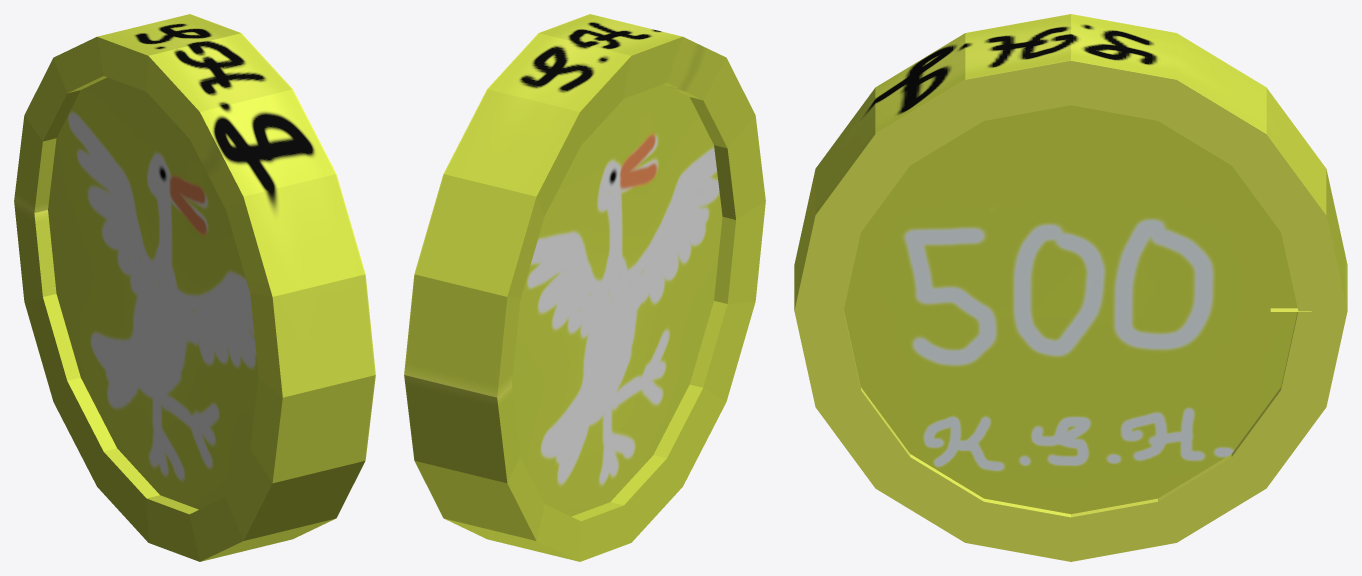
File: coin.fbx.glb
3 renders of one model, left to right at view 1: azimuth 30°, elevation 25°; view 2: azimuth 150°, elevation 25°; view 3: azimuth 270°, elevation 25°, orthographic. The views are drawn at different scales.
Parts seen in each view (by area): view 1: Cylinder.1; view 2: Cylinder.1; view 3: Cylinder.1.
Boxes of the visible parts, bbox=[...] form: Cylinder.1: bbox=[14, 14, 375, 561]; Cylinder.1: bbox=[404, 14, 765, 561]; Cylinder.1: bbox=[794, 14, 1347, 561].
Bounding box in the file's own units: 40.45 × 200 × 200.
1 material, 1 textured.
